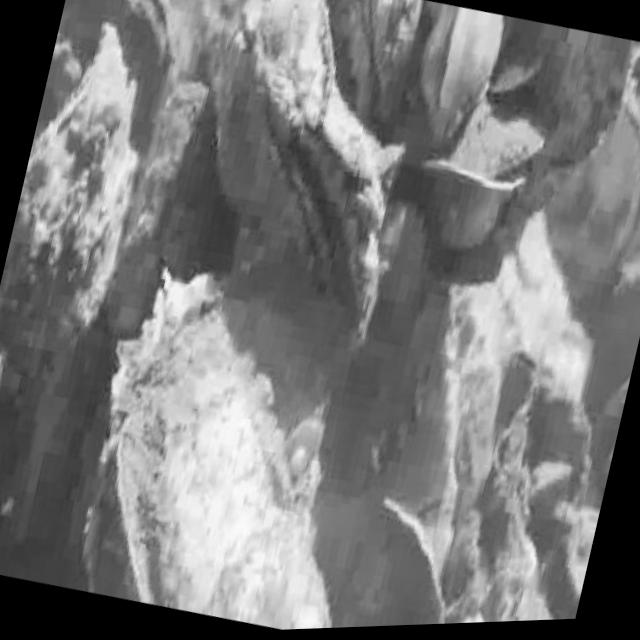Oyster-Closed: (214, 28, 387, 339), (64, 0, 172, 148), (419, 6, 504, 143), (344, 0, 419, 134), (533, 460, 573, 507)
Oyster-Indeterminate: (83, 272, 334, 629), (0, 40, 134, 372), (104, 79, 216, 330), (517, 28, 622, 207), (549, 93, 640, 297), (257, 0, 325, 141), (386, 500, 452, 625), (454, 112, 542, 168), (492, 42, 548, 94)
